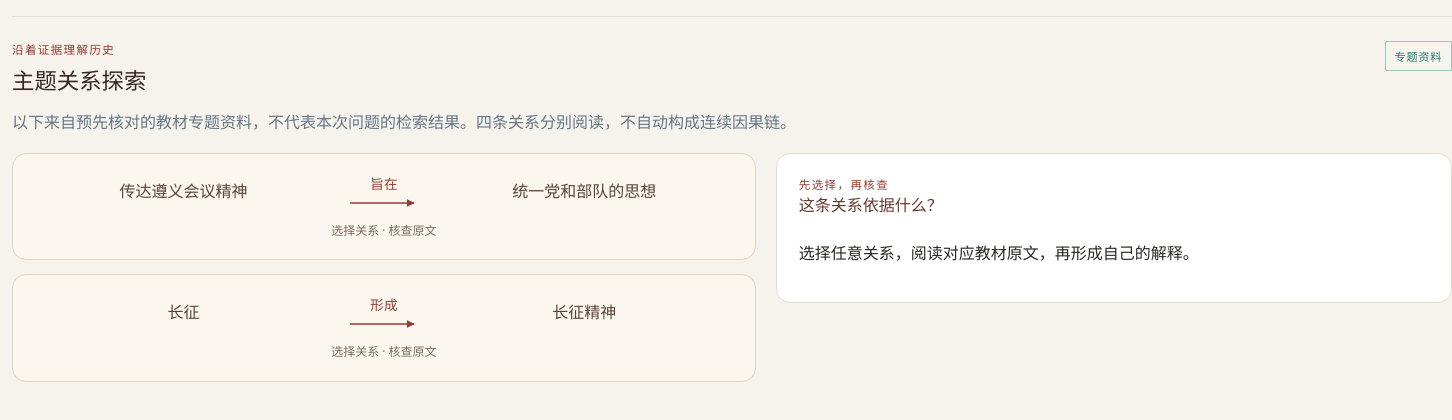
TopicGraphView › selects relations by evidence ID and replaces the previous original
This screenshot has width=1452, height=420.
Click the button with aria-label "传达遵义会议精神，旨在，统一党和部队的思想".
click(384, 207)  # box x1=12 y1=153 x2=756 y2=260
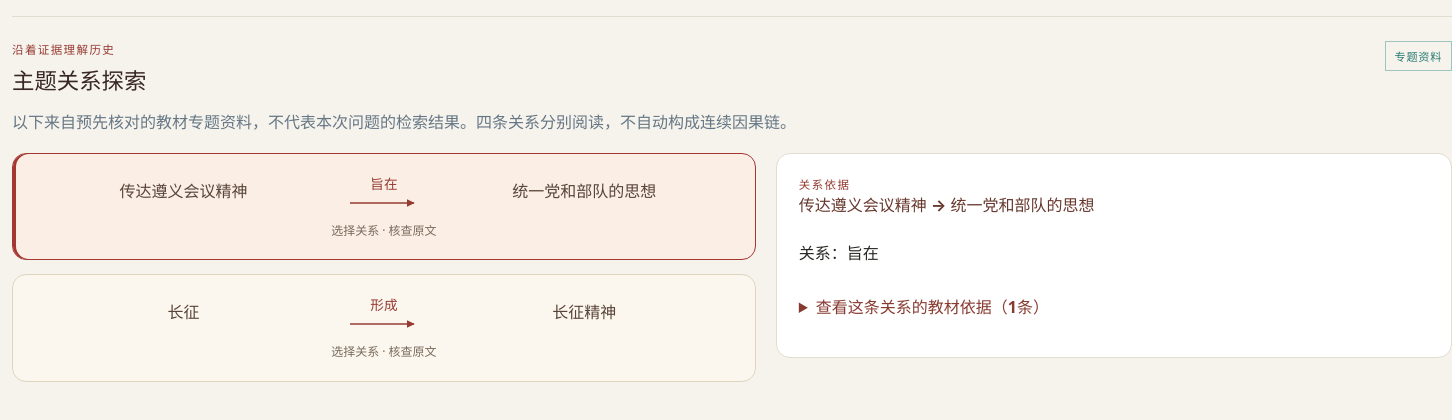
Click the button with aria-label "长征，形成，长征精神".
click(384, 328)  # box x1=12 y1=274 x2=756 y2=382
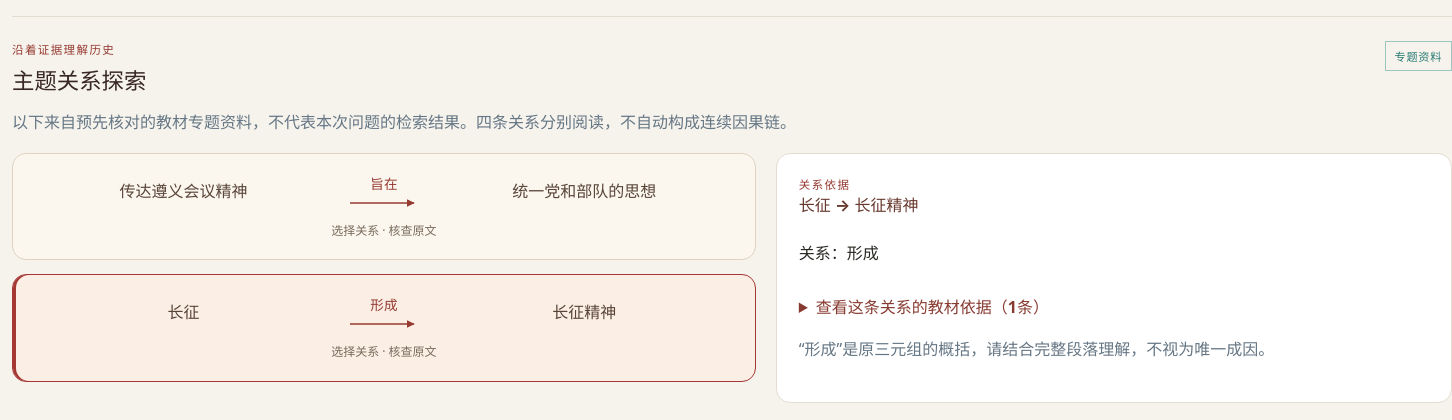
Expected: the text "以下来自预先核对的教材专题资料，不代表本次问题的检索结果。四条关系分别阅读，不自动构成连续因果链。" is shown, x1=12 y1=111 x2=796 y2=133
Expected: the text "“形成”是原三元组的概括，请结合完整段落理解，不视为唯一成因。" is shown, x1=799 y1=338 x2=1274 y2=360
